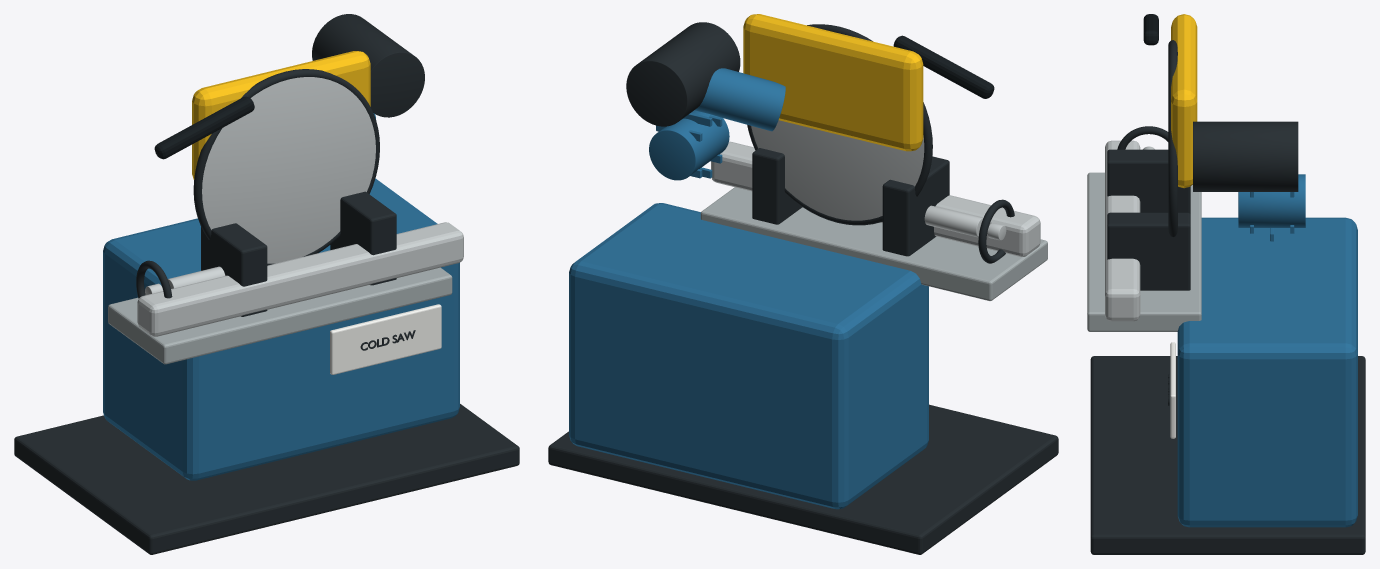
File: cold_saw.glb
3 views of the same model, side by side, from view 1: azimuth 30°, elevation 25°; view 2: azimuth 150°, elevation 25°; view 3: azimuth 270°, elevation 25° (orthographic).
Parts seen in each view (by area): view 1: SAW_PEDESTAL, MACHINE_BASE, KIN_SAW_BLADE, ROUND_STOCK, CHIP_TRAY, HEAD_PIVOT, COLD_SAW_SIGN, UPPER_BLADE_GUARD, MOVING_VISE_JAW, FIXED_VISE_JAW, BLADE_TEETH, OPERATOR_HANDLE (+2 smaller); view 2: SAW_PEDESTAL, MACHINE_BASE, UPPER_BLADE_GUARD, CHIP_TRAY, KIN_SAW_BLADE, HEAD_PIVOT, ROUND_STOCK, MOVING_VISE_JAW, KIN_SAW_HEAD_ARM, SAW_MOTOR, FIXED_VISE_JAW, OPERATOR_HANDLE (+3 smaller); view 3: SAW_PEDESTAL, MACHINE_BASE, HEAD_PIVOT, CHIP_TRAY, FIXED_VISE_JAW, UPPER_BLADE_GUARD, MOVING_VISE_JAW, ROUND_STOCK, SAW_MOTOR, BLADE_TEETH, COLD_SAW_SIGN, VISE_HANDWHEEL (+1 smaller).
Part boxes in pixels (left/top/right/bottom): SAW_PEDESTAL: left=103, top=178, right=459, bottom=480; MACHINE_BASE: left=14, top=404, right=519, bottom=554; KIN_SAW_BLADE: left=202, top=77, right=375, bottom=263; ROUND_STOCK: left=137, top=222, right=463, bottom=336; CHIP_TRAY: left=108, top=267, right=452, bottom=364; HEAD_PIVOT: left=312, top=14, right=424, bottom=117; COLD_SAW_SIGN: left=330, top=304, right=441, bottom=374; UPPER_BLADE_GUARD: left=192, top=51, right=370, bottom=179; MOVING_VISE_JAW: left=201, top=223, right=267, bottom=316; FIXED_VISE_JAW: left=330, top=191, right=396, bottom=285; BLADE_TEETH: left=193, top=69, right=379, bottom=265; OPERATOR_HANDLE: left=154, top=96, right=254, bottom=159; SAW_PEDESTAL: left=569, top=203, right=928, bottom=509; MACHINE_BASE: left=548, top=404, right=1058, bottom=554; UPPER_BLADE_GUARD: left=743, top=14, right=923, bottom=151; CHIP_TRAY: left=700, top=187, right=1047, bottom=300; KIN_SAW_BLADE: left=751, top=120, right=924, bottom=220; HEAD_PIVOT: left=626, top=22, right=740, bottom=126; ROUND_STOCK: left=711, top=141, right=1040, bottom=256; MOVING_VISE_JAW: left=882, top=156, right=949, bottom=256; KIN_SAW_HEAD_ARM: left=694, top=68, right=785, bottom=131; SAW_MOTOR: left=649, top=110, right=729, bottom=180; FIXED_VISE_JAW: left=752, top=148, right=802, bottom=224; OPERATOR_HANDLE: left=893, top=35, right=994, bottom=98; SAW_PEDESTAL: left=1177, top=217, right=1357, bottom=527; MACHINE_BASE: left=1090, top=356, right=1365, bottom=554; HEAD_PIVOT: left=1193, top=121, right=1298, bottom=191; CHIP_TRAY: left=1087, top=172, right=1201, bottom=331; FIXED_VISE_JAW: left=1107, top=212, right=1190, bottom=290; UPPER_BLADE_GUARD: left=1171, top=14, right=1197, bottom=188; MOVING_VISE_JAW: left=1107, top=149, right=1190, bottom=213; ROUND_STOCK: left=1105, top=140, right=1140, bottom=321; SAW_MOTOR: left=1238, top=174, right=1305, bottom=227; BLADE_TEETH: left=1168, top=40, right=1177, bottom=236; COLD_SAW_SIGN: left=1170, top=342, right=1175, bottom=438; VISE_HANDWHEEL: left=1117, top=126, right=1168, bottom=149.
Size of the model in its own units: 1.95 by 2.07 by 1.26.
